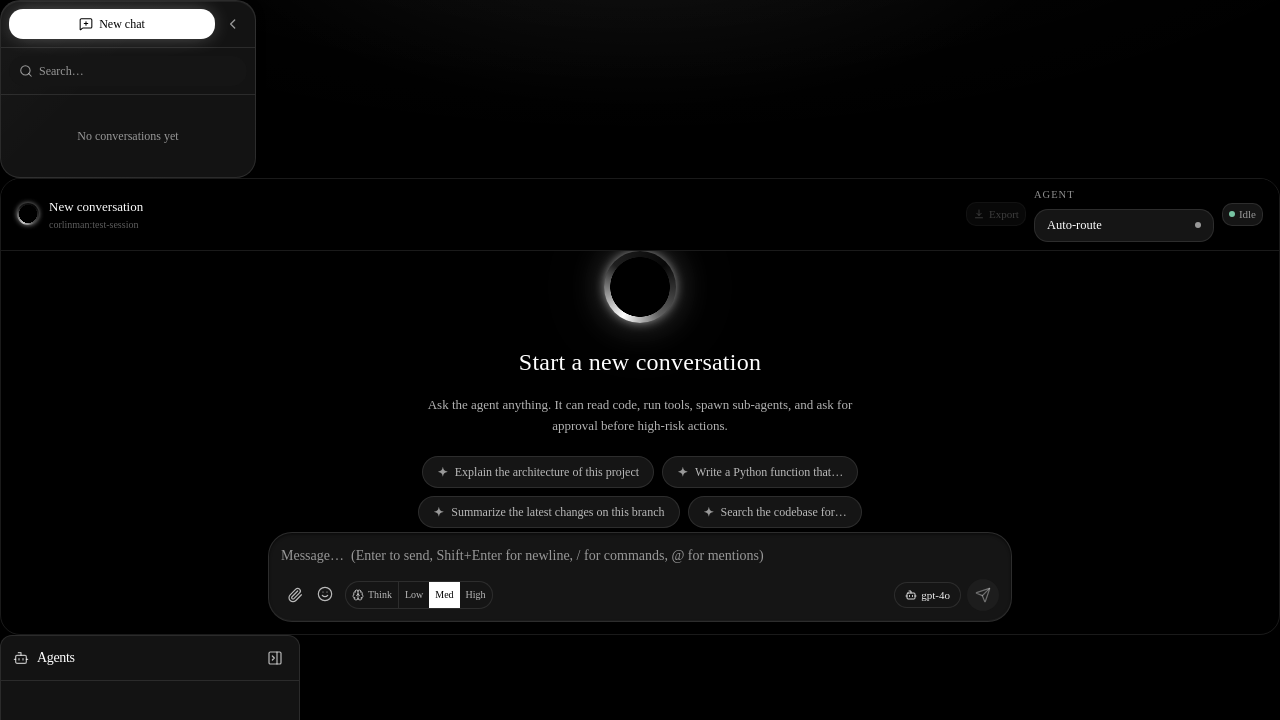
Test case: ChatPage model picker wiring › closes the picker again via the close control
Click the button with test id "composer-model": (928, 595) [894, 582, 961, 608]
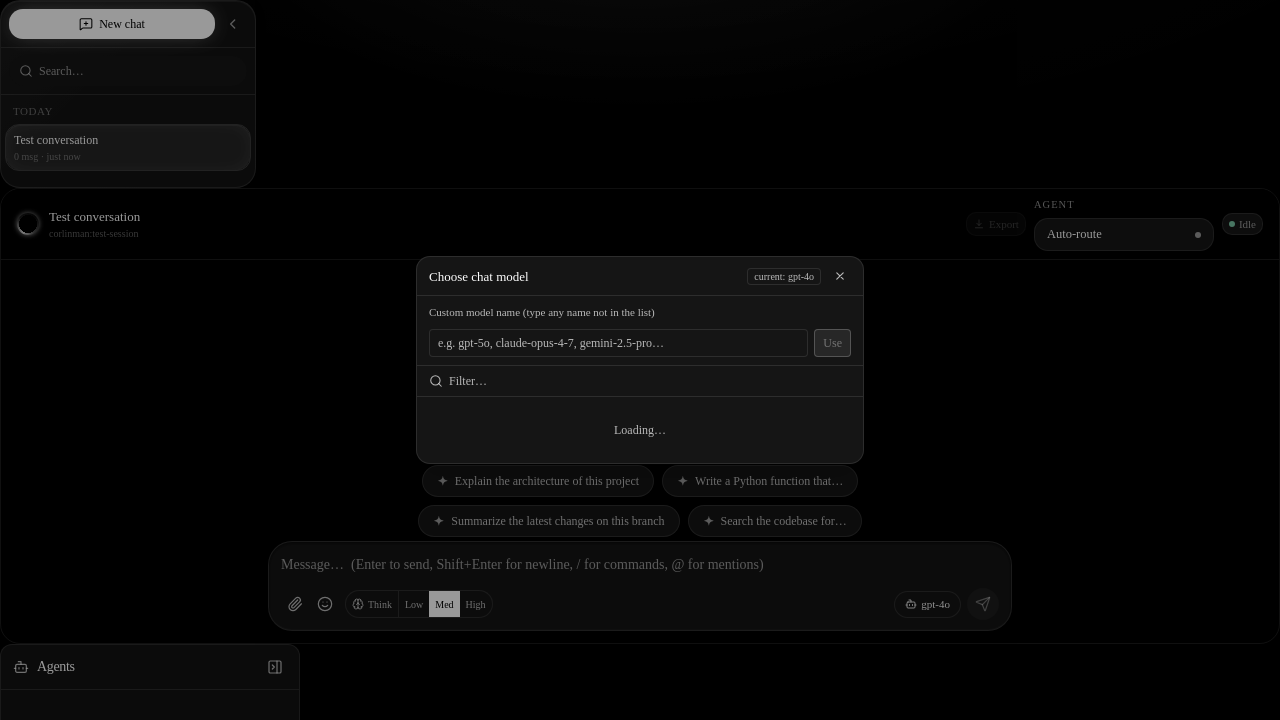
expect the dialog with test id "chat-model-picker" is shown: met
Click the button named "Close": (840, 276) [829, 265, 851, 287]
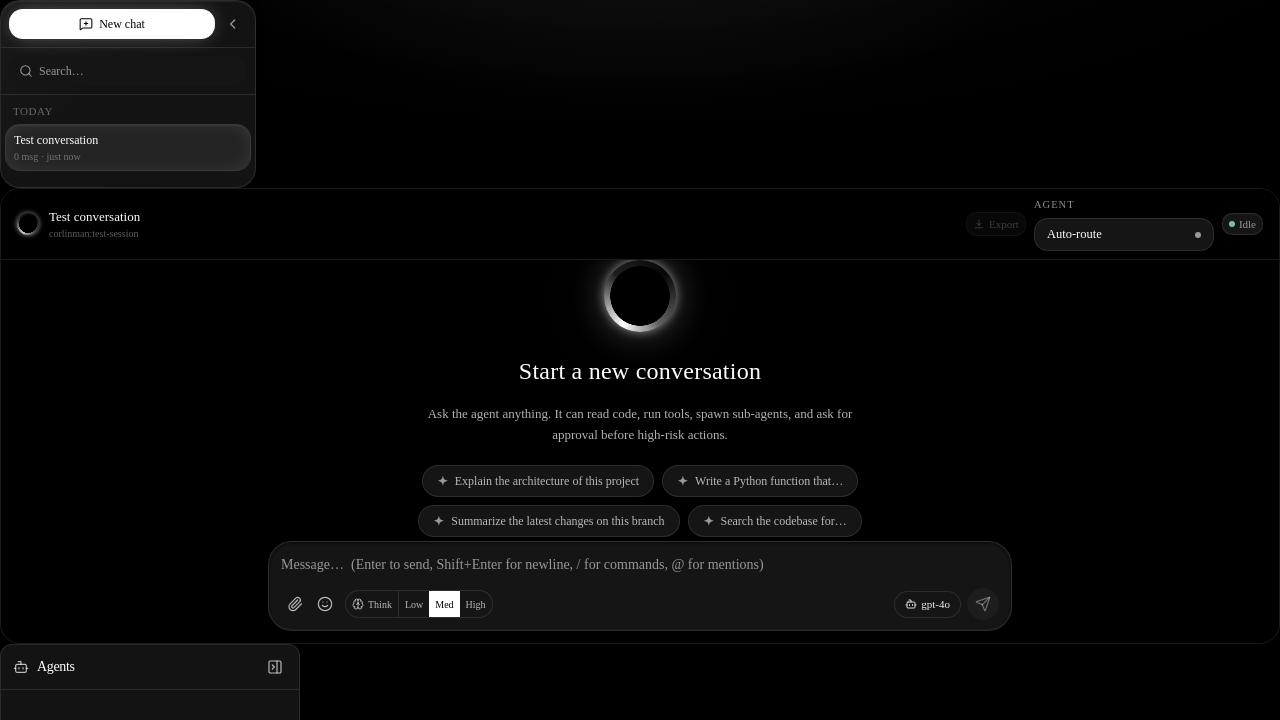
expect the dialog with test id "chat-model-picker" is gone: met
